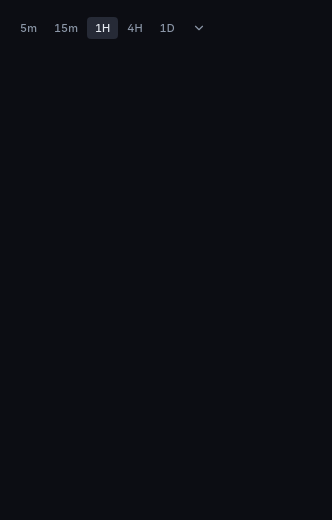
Scenario: IntervalPicker › lists every interval in the menu, grouped
The width and height of the screenshot is (332, 520).
Click the button named "All timeframes" at (199, 28), box [183,12,215,44]
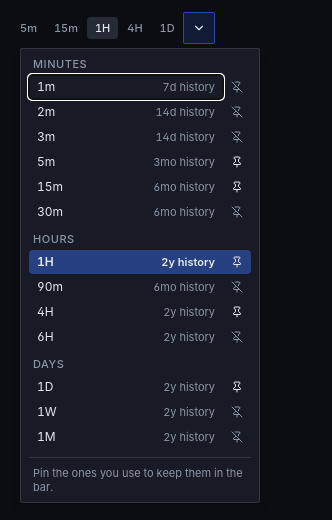
Expected: the button "1m 7d history" is shown, [29,75,223,99]
Expected: the button "90m 6mo history" is shown, [29,275,223,299]
Expected: the text "Minutes" is shown, [33,57,87,71]
